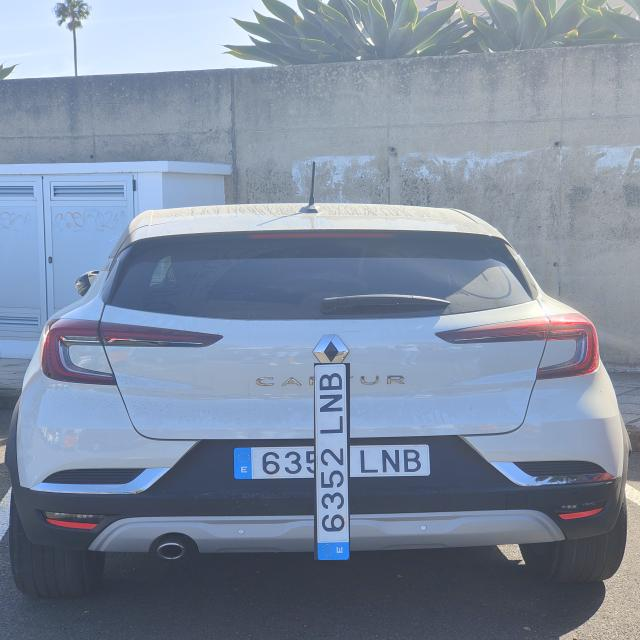License-Plate: (273, 403, 391, 520)
